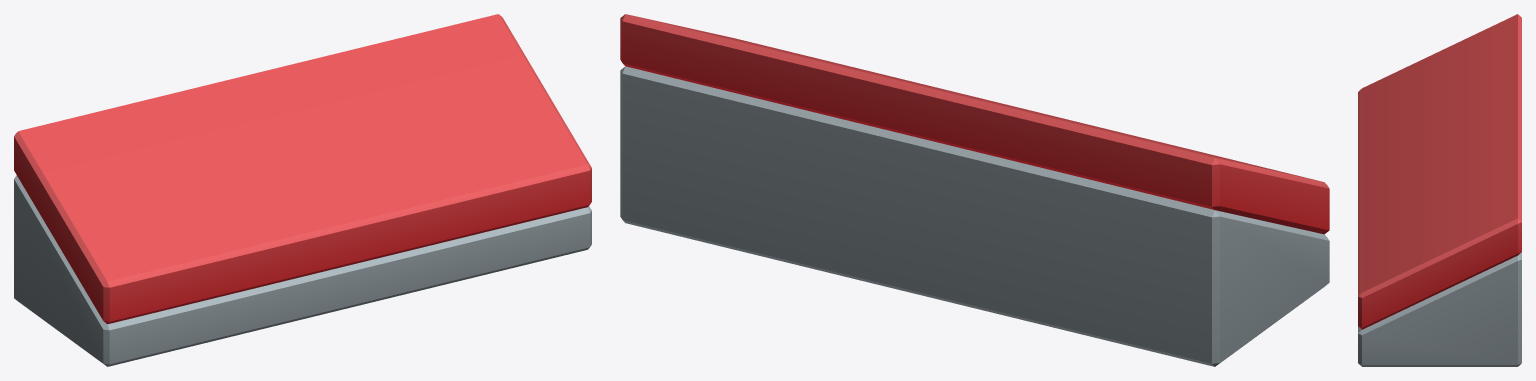
File: platform_slope_6x2x2_red.glb
3 renders of one model, left to right at view 1: azimuth 30°, elevation 25°; view 2: azimuth 150°, elevation 25°; view 3: azimuth 270°, elevation 25°, orthographic. The views are drawn at different scales.
Visible parts, largest first — view 1: platform_slope_6x2x2_red; view 2: platform_slope_6x2x2_red; view 3: platform_slope_6x2x2_red.
Boxes of the visible parts, x1=… form: platform_slope_6x2x2_red: x1=14, y1=14, x2=591, y2=366; platform_slope_6x2x2_red: x1=620, y1=14, x2=1329, y2=366; platform_slope_6x2x2_red: x1=1358, y1=14, x2=1521, y2=366.
Bounding box in the file's own units: 6 × 2 × 2.
Materials: 1 (1 with a texture image).
